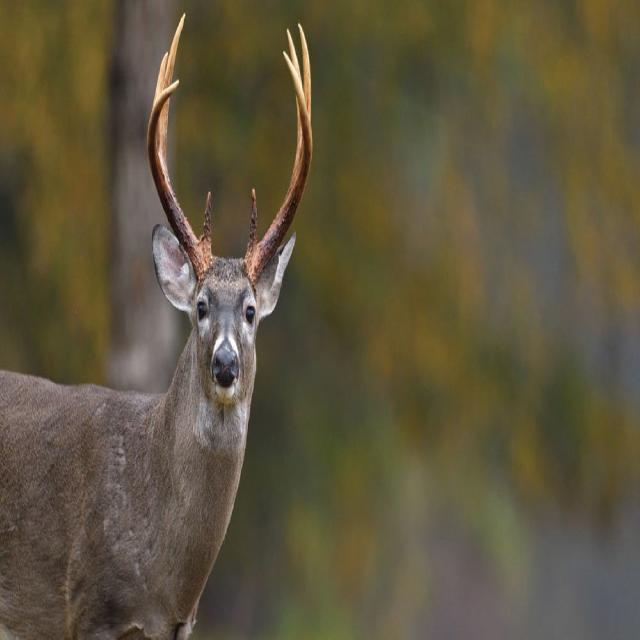deer: (1, 16, 313, 639)
